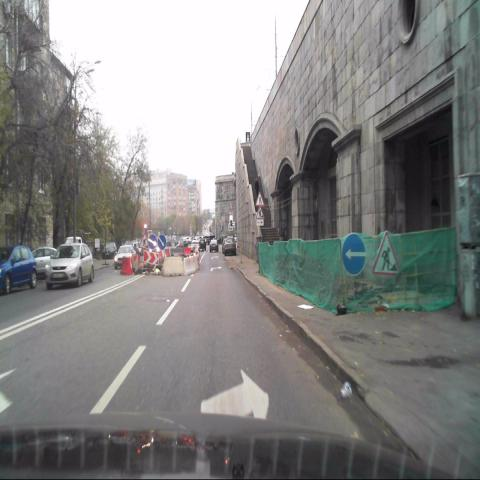4_1_2_2: (342, 230, 366, 275)
